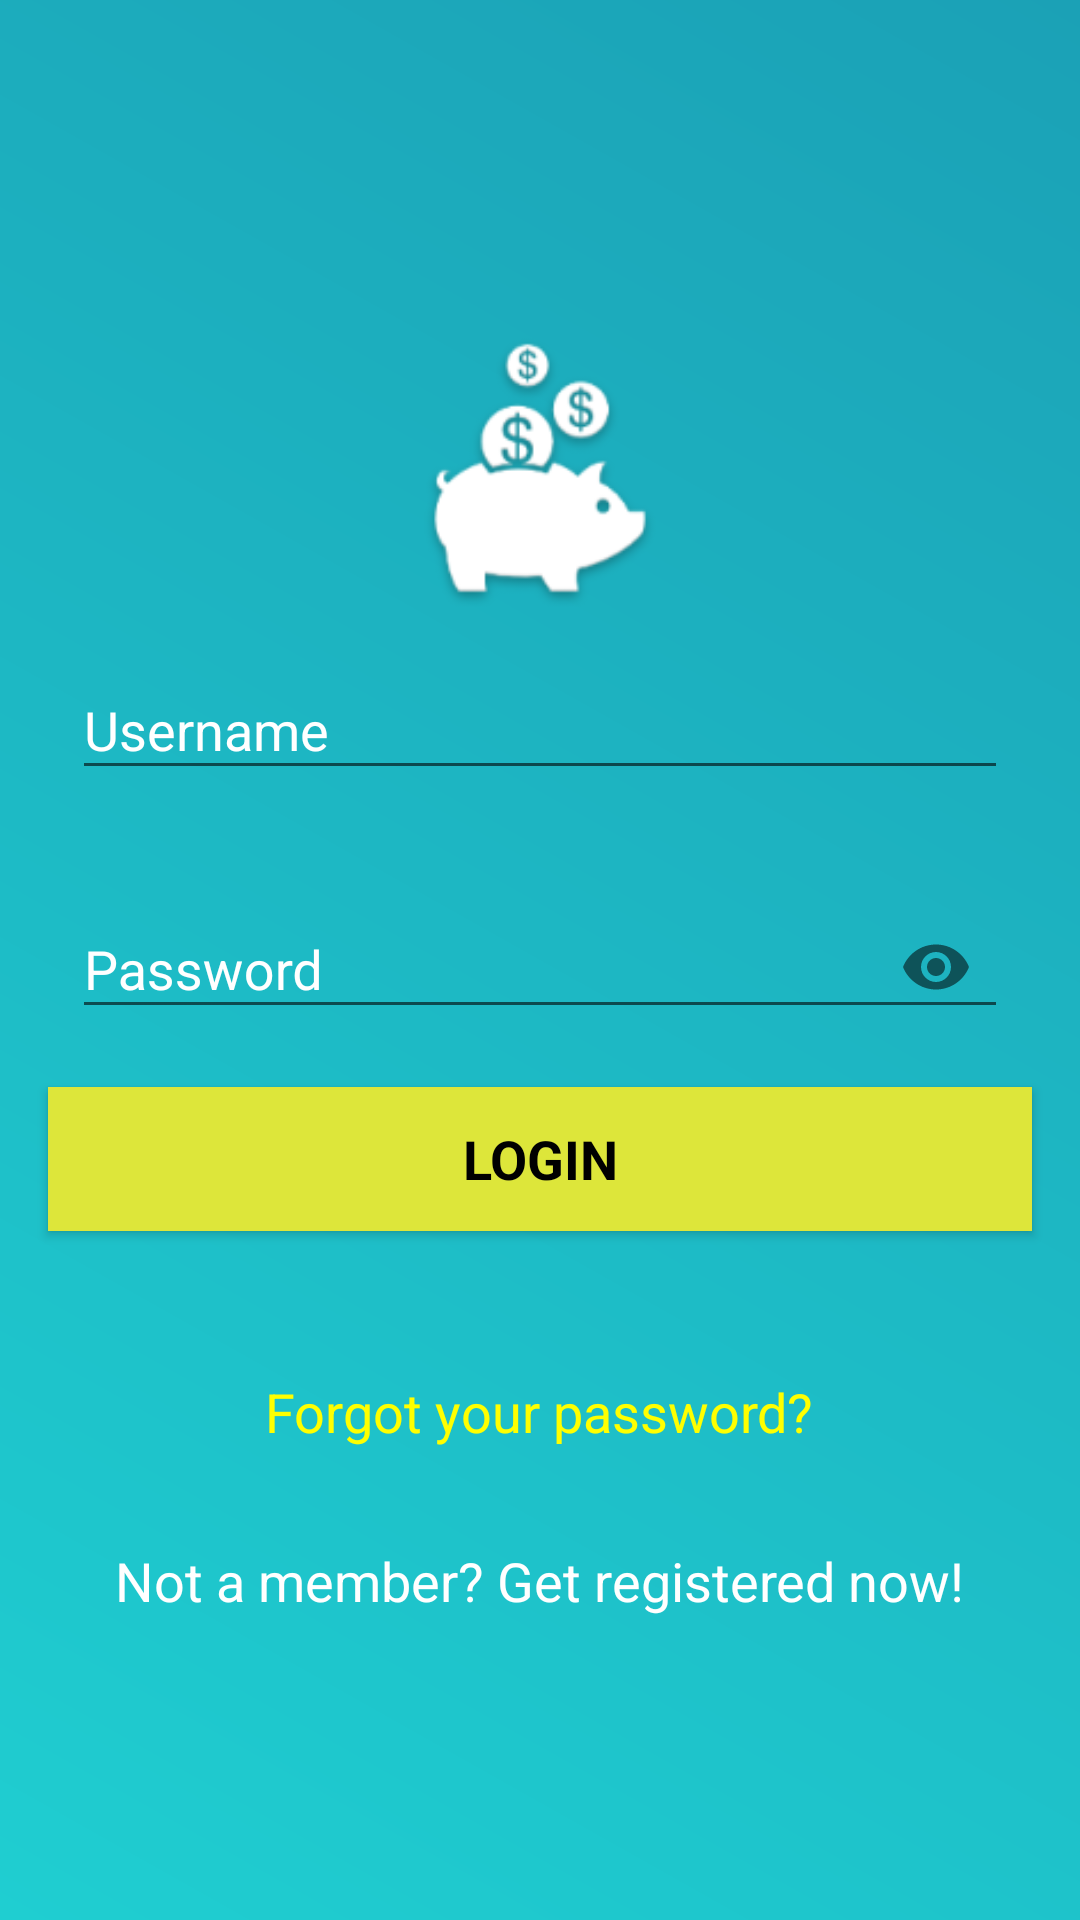

Icon click points for this 1080px×1920px phone screenshot, format point (x, y):
piggy bank: point (540, 470)
